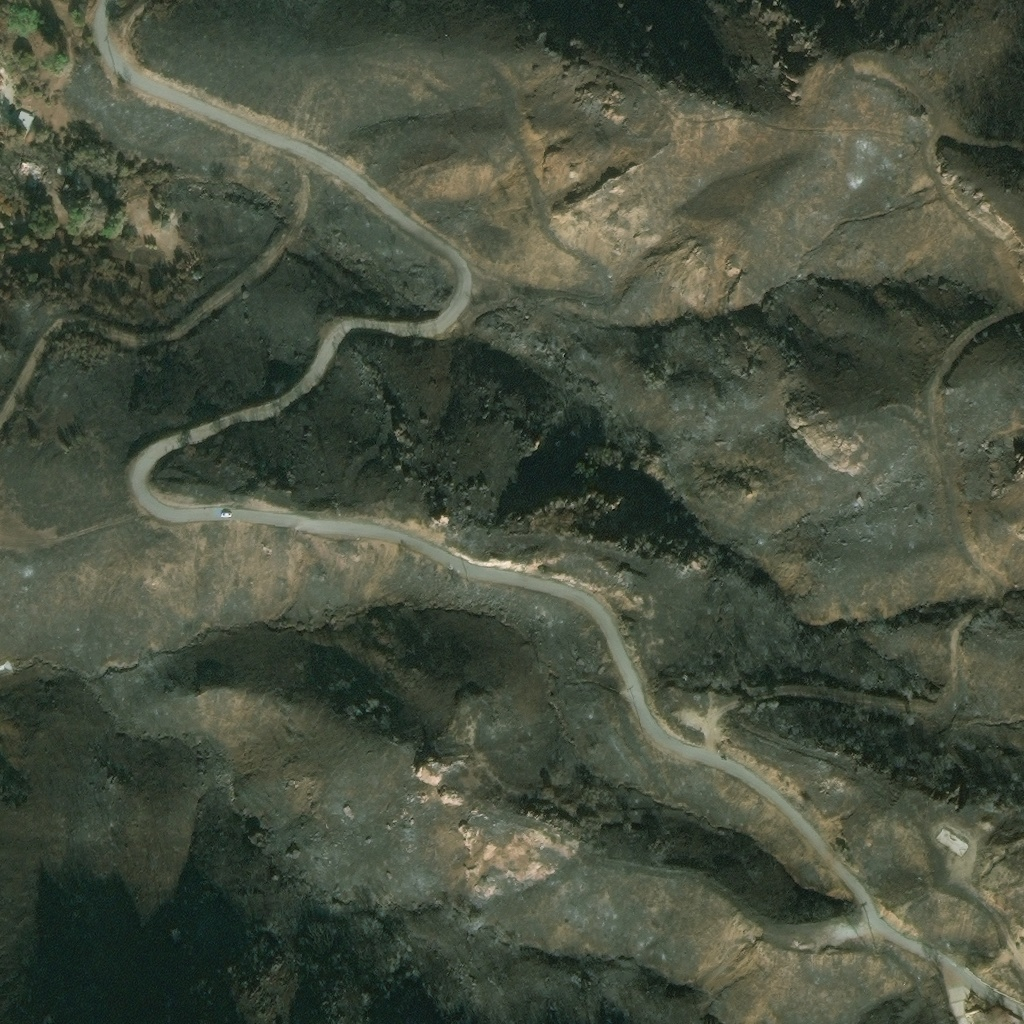0 no-damage: (14, 108, 36, 131)
3 destroyed: (935, 826, 971, 856), (92, 204, 105, 211), (48, 200, 58, 207), (47, 184, 51, 190)
